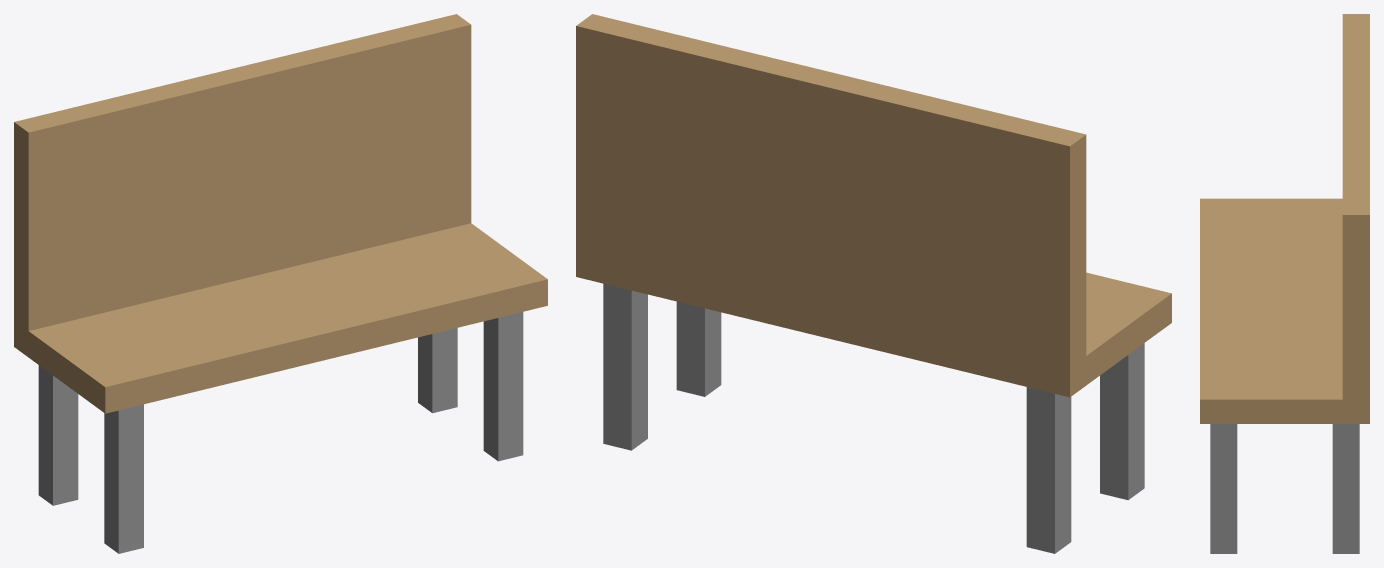
File: bangku.glb
3 renders of one model, left to right at view 1: azimuth 30°, elevation 25°; view 2: azimuth 150°, elevation 25°; view 3: azimuth 270°, elevation 25°, orthographic. The views are drawn at different scales.
Bounding box in the file's own units: 1.4 × 1.13 × 0.5.
